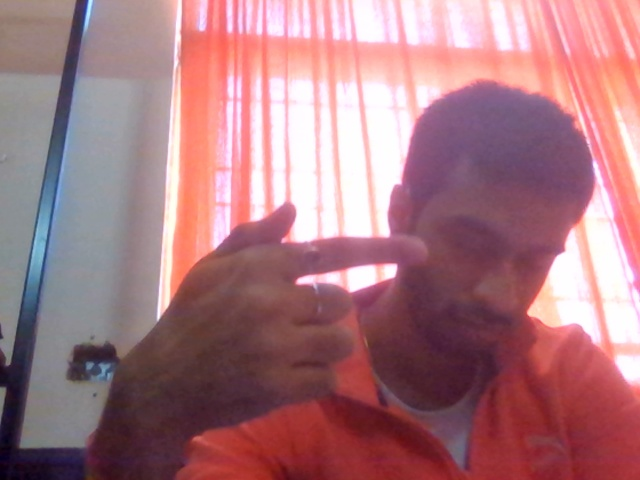G: (89, 210, 440, 477)
